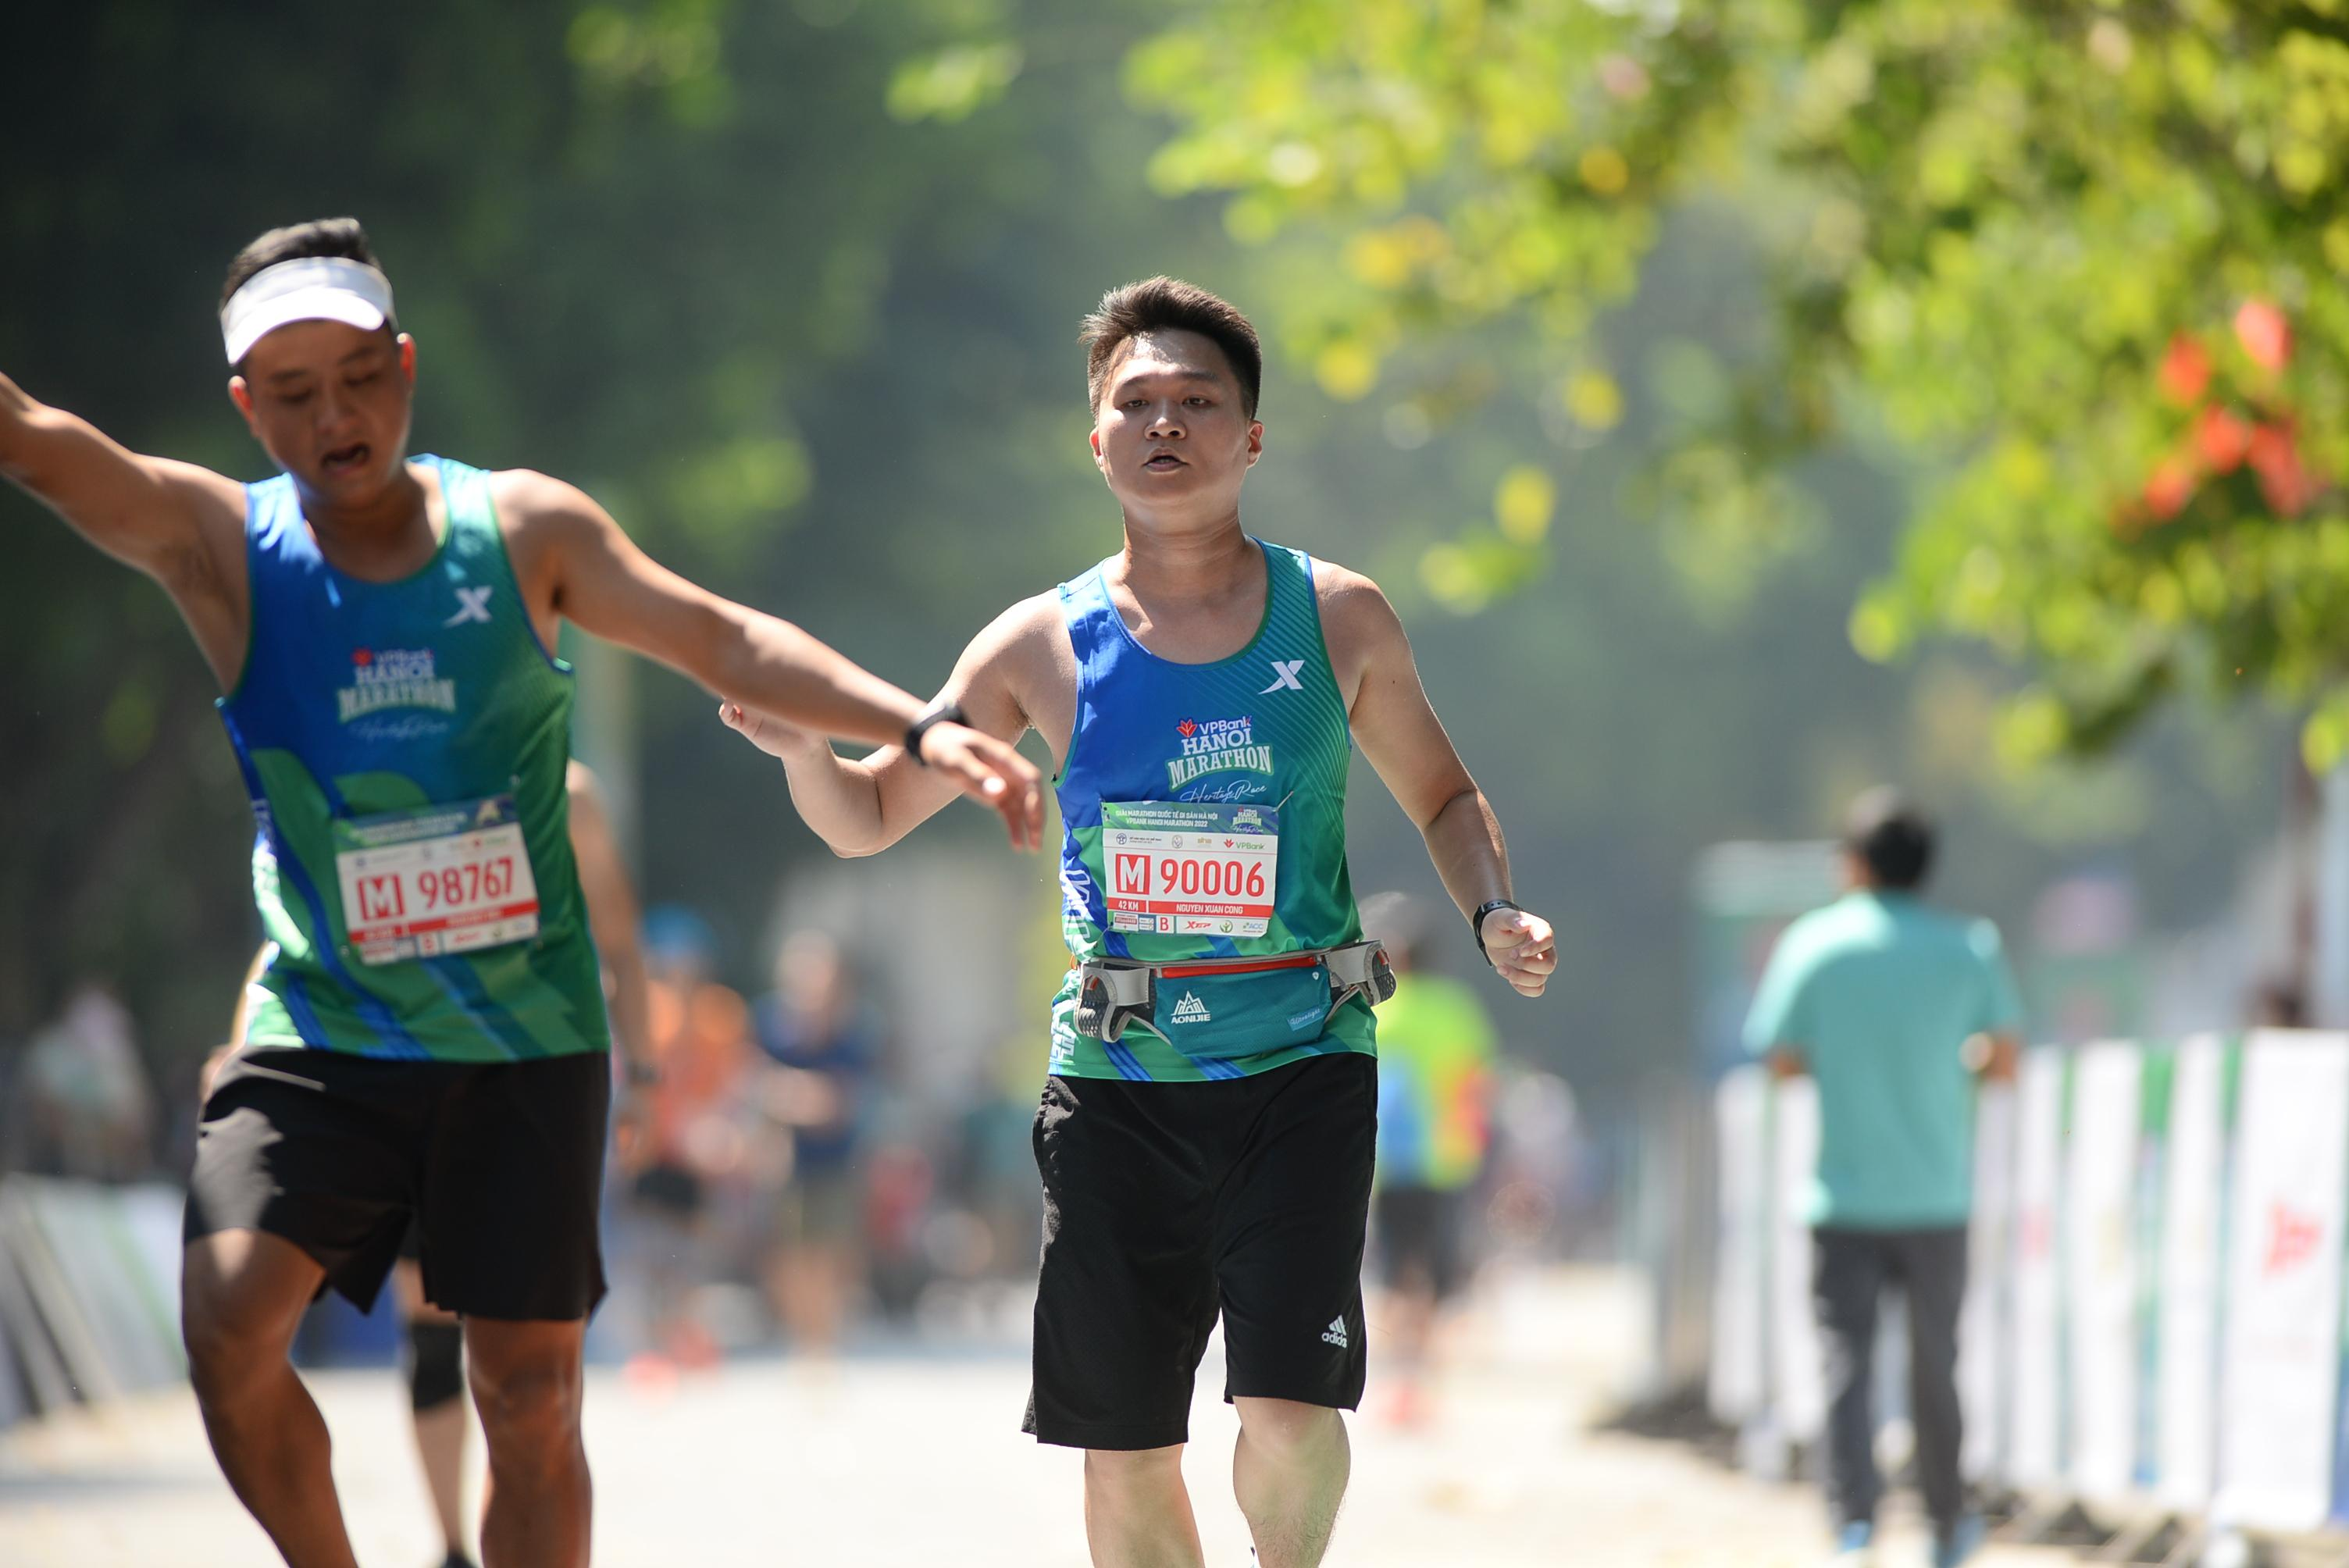bib: (331, 796, 537, 959), (1097, 791, 1276, 938)
